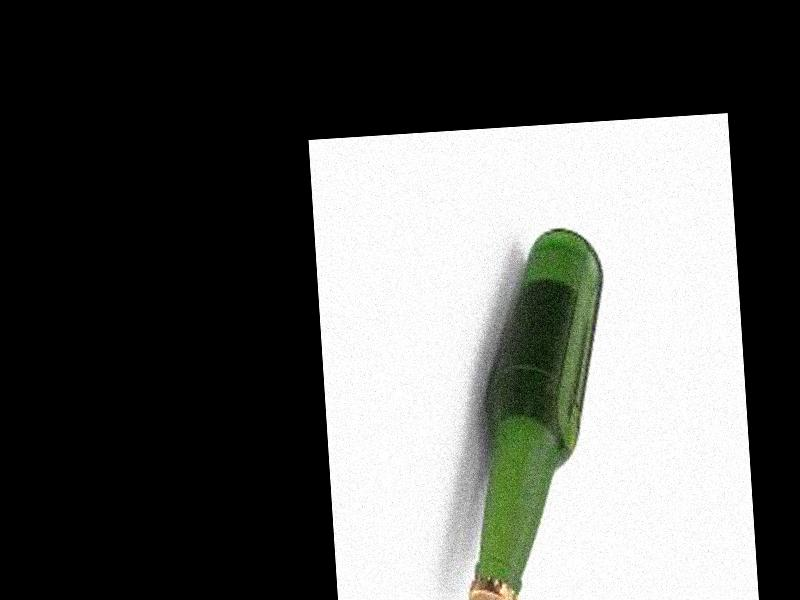Beer: (445, 225, 625, 600)
